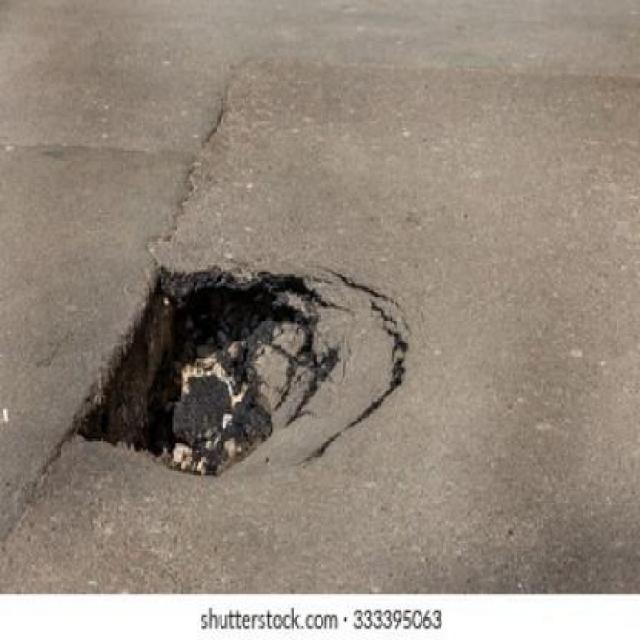Pothole: (66, 258, 352, 490)
